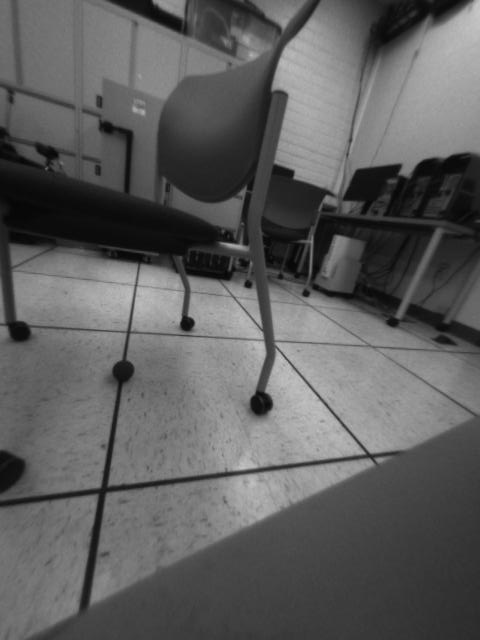dogtoy: (108, 354, 140, 387)
